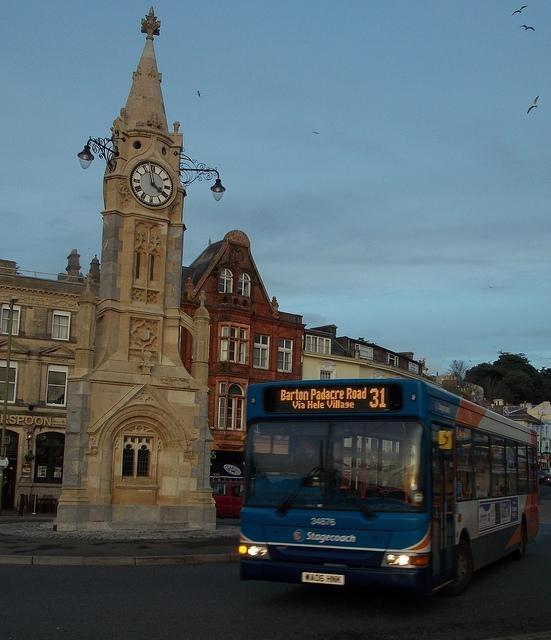bus: (224, 374, 538, 621)
car: (209, 480, 243, 518), (538, 470, 550, 484)
